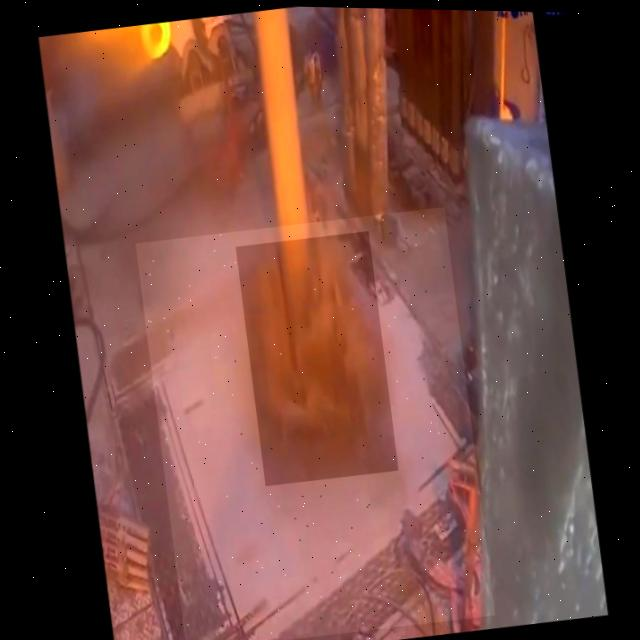spillage: (137, 206, 497, 640), (238, 231, 400, 485)
